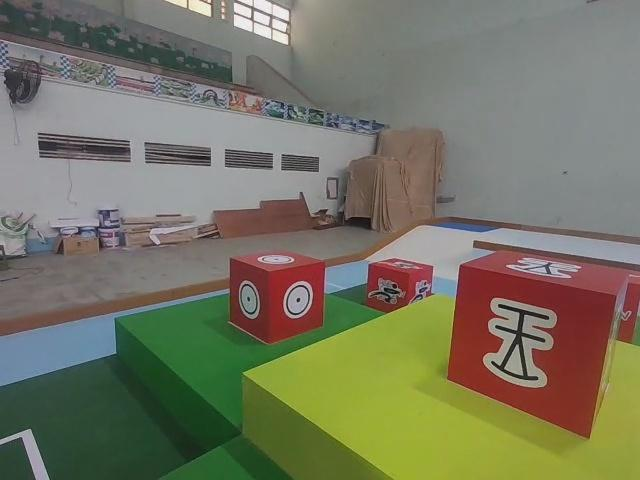R1: (365, 255, 433, 309)
R2 Real: (447, 246, 625, 442), (225, 253, 327, 340)
